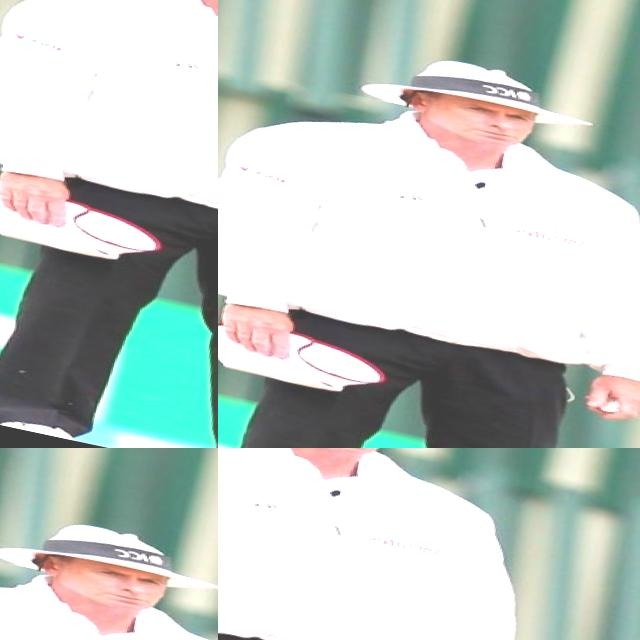No_Action: (0, 465, 218, 640)
Out: (252, 0, 640, 303)
Wide: (0, 0, 218, 155), (311, 448, 640, 529)
